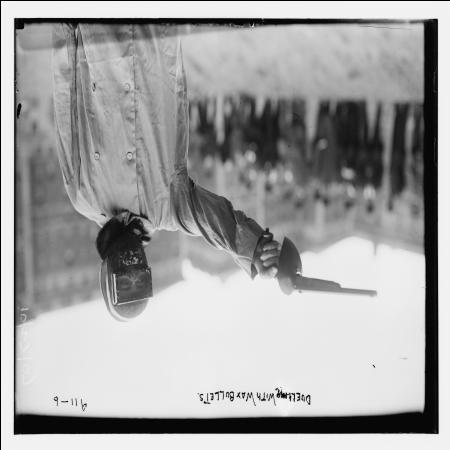Pistol: (278, 238, 376, 299)
